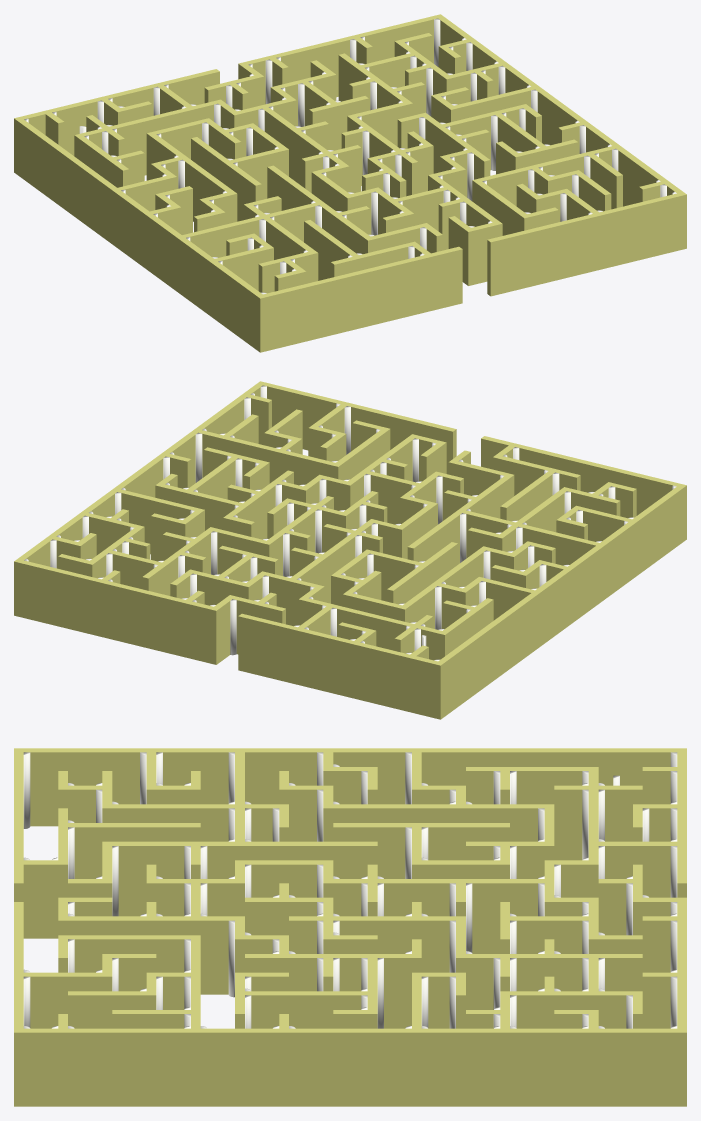
File: maze2.fbx
The picture shows the model from 3 angles, top to bottom: view 1: azimuth 30°, elevation 25°; view 2: azimuth 150°, elevation 25°; view 3: azimuth 270°, elevation 25°; orthographic projection. The views are drawn at different scales.
Parts seen in each view (by area): view 1: Curve.002, Cube.001; view 2: Curve.002, Cube.001; view 3: Curve.002, Cube.001.
Part boxes in pixels (x1=…): Curve.002: x1=14, y1=14, x2=686, y2=352; Cube.001: x1=24, y1=18, x2=676, y2=294; Curve.002: x1=14, y1=381, x2=686, y2=719; Cube.001: x1=24, y1=385, x2=676, y2=661; Curve.002: x1=14, y1=748, x2=686, y2=1106; Cube.001: x1=23, y1=752, x2=677, y2=1028.
Size of the model in its own units: 825 by 100 by 825.
